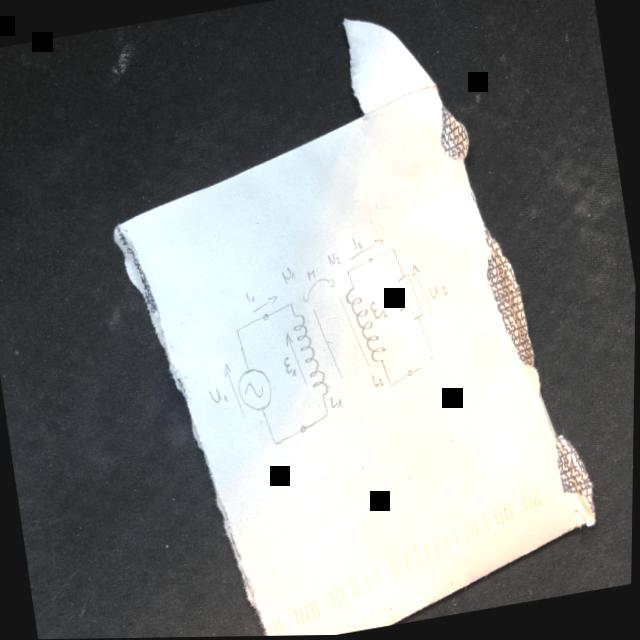junction: (387, 380, 395, 389), (272, 438, 279, 447), (389, 245, 396, 254), (344, 268, 351, 277), (430, 354, 437, 363), (325, 408, 332, 416), (234, 328, 241, 335), (287, 301, 294, 308)
resistor: (396, 270, 427, 323)
source: (235, 364, 276, 415)
text: (207, 384, 230, 406), (368, 298, 388, 321), (427, 282, 450, 301), (282, 355, 298, 380), (280, 265, 297, 285), (326, 250, 343, 268), (371, 372, 385, 390), (395, 294, 407, 314), (329, 393, 343, 410), (350, 236, 364, 252), (244, 290, 256, 303), (306, 269, 316, 281)
transformer: (285, 281, 393, 400)
